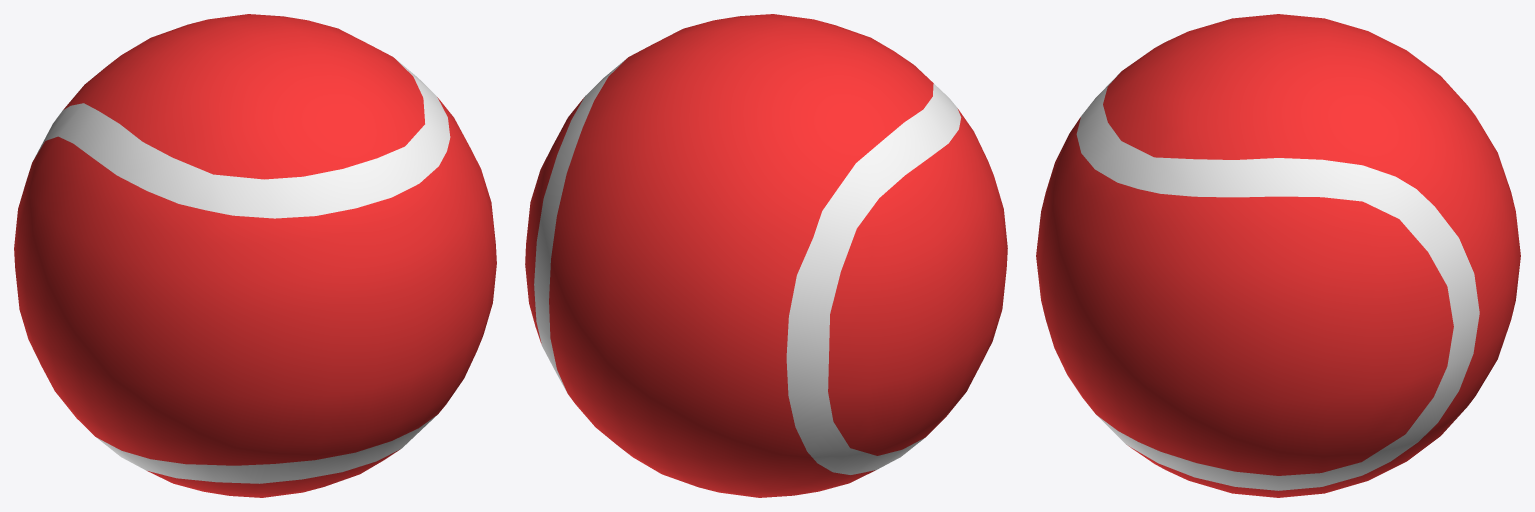
File: Tennisball_Red.fbx
The picture shows the model from 3 angles, left to right: view 1: azimuth 30°, elevation 25°; view 2: azimuth 150°, elevation 25°; view 3: azimuth 270°, elevation 25°; orthographic projection.
Parts seen in each view (by area): view 1: Tennisball_Red; view 2: Tennisball_Red; view 3: Tennisball_Red.
Boxes of the visible parts, box(x1,y1,x2,y2) form: Tennisball_Red: box(14, 14, 496, 497); Tennisball_Red: box(525, 14, 1007, 497); Tennisball_Red: box(1036, 14, 1520, 497).
Bounding box in the file's own units: 92.63 × 92.63 × 92.63.
